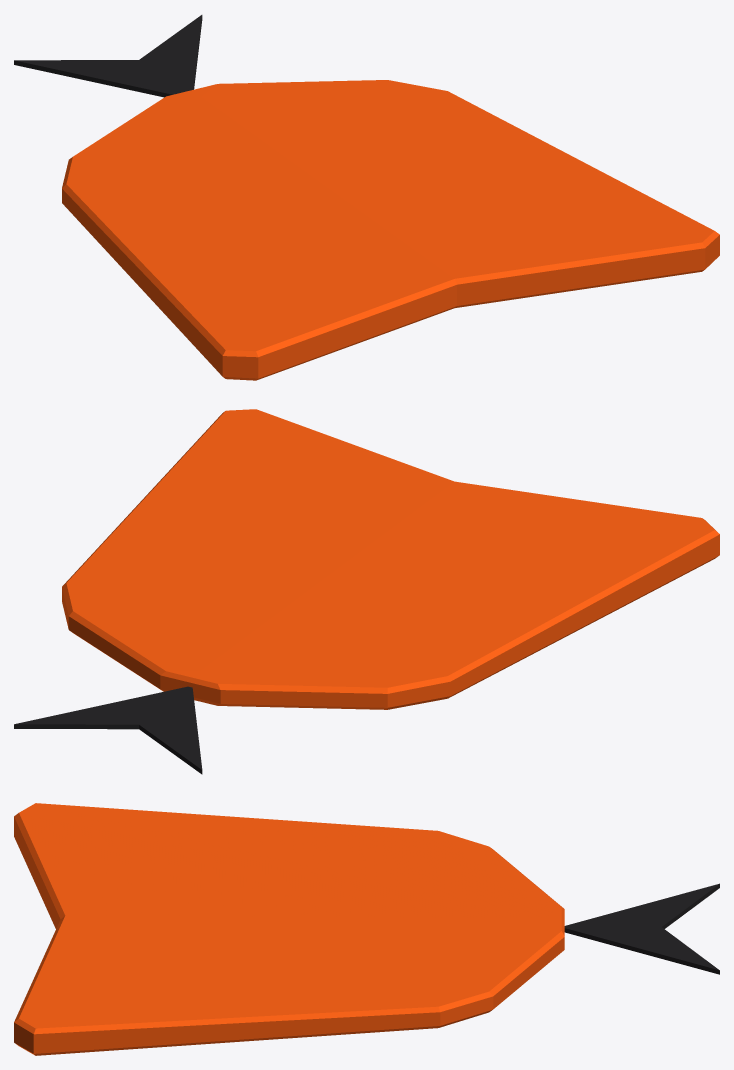
File: azihurai.fbx
The picture shows the model from 3 angles, top to bottom: view 1: azimuth 30°, elevation 25°; view 2: azimuth 150°, elevation 25°; view 3: azimuth 270°, elevation 25°; orthographic projection. The views are drawn at different scales.
Parts seen in each view (by area): view 1: 平面; view 2: 平面; view 3: 平面.
Part boxes in pixels (x1,y1,x2,y2): 平面: (14,15,719,380); 平面: (14,409,719,774); 平面: (14,803,719,1055).
Size of the model in its own units: 24.57 by 1.39 by 31.97.
1 material, 1 textured.
